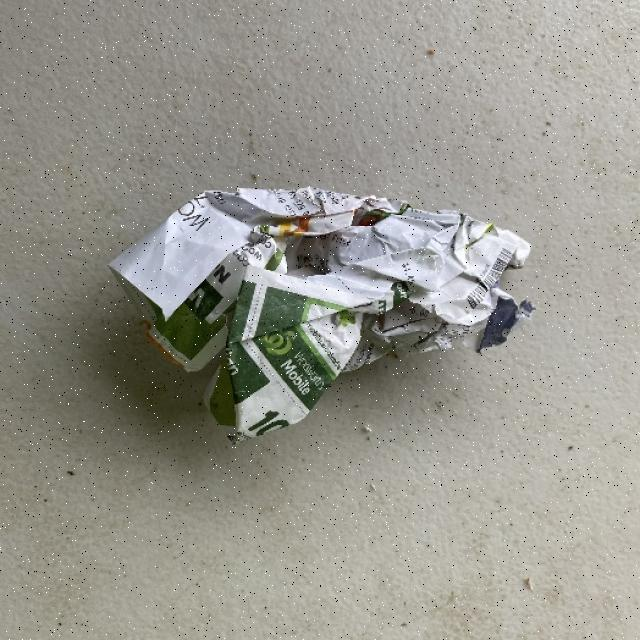paper: (106, 184, 532, 444)
